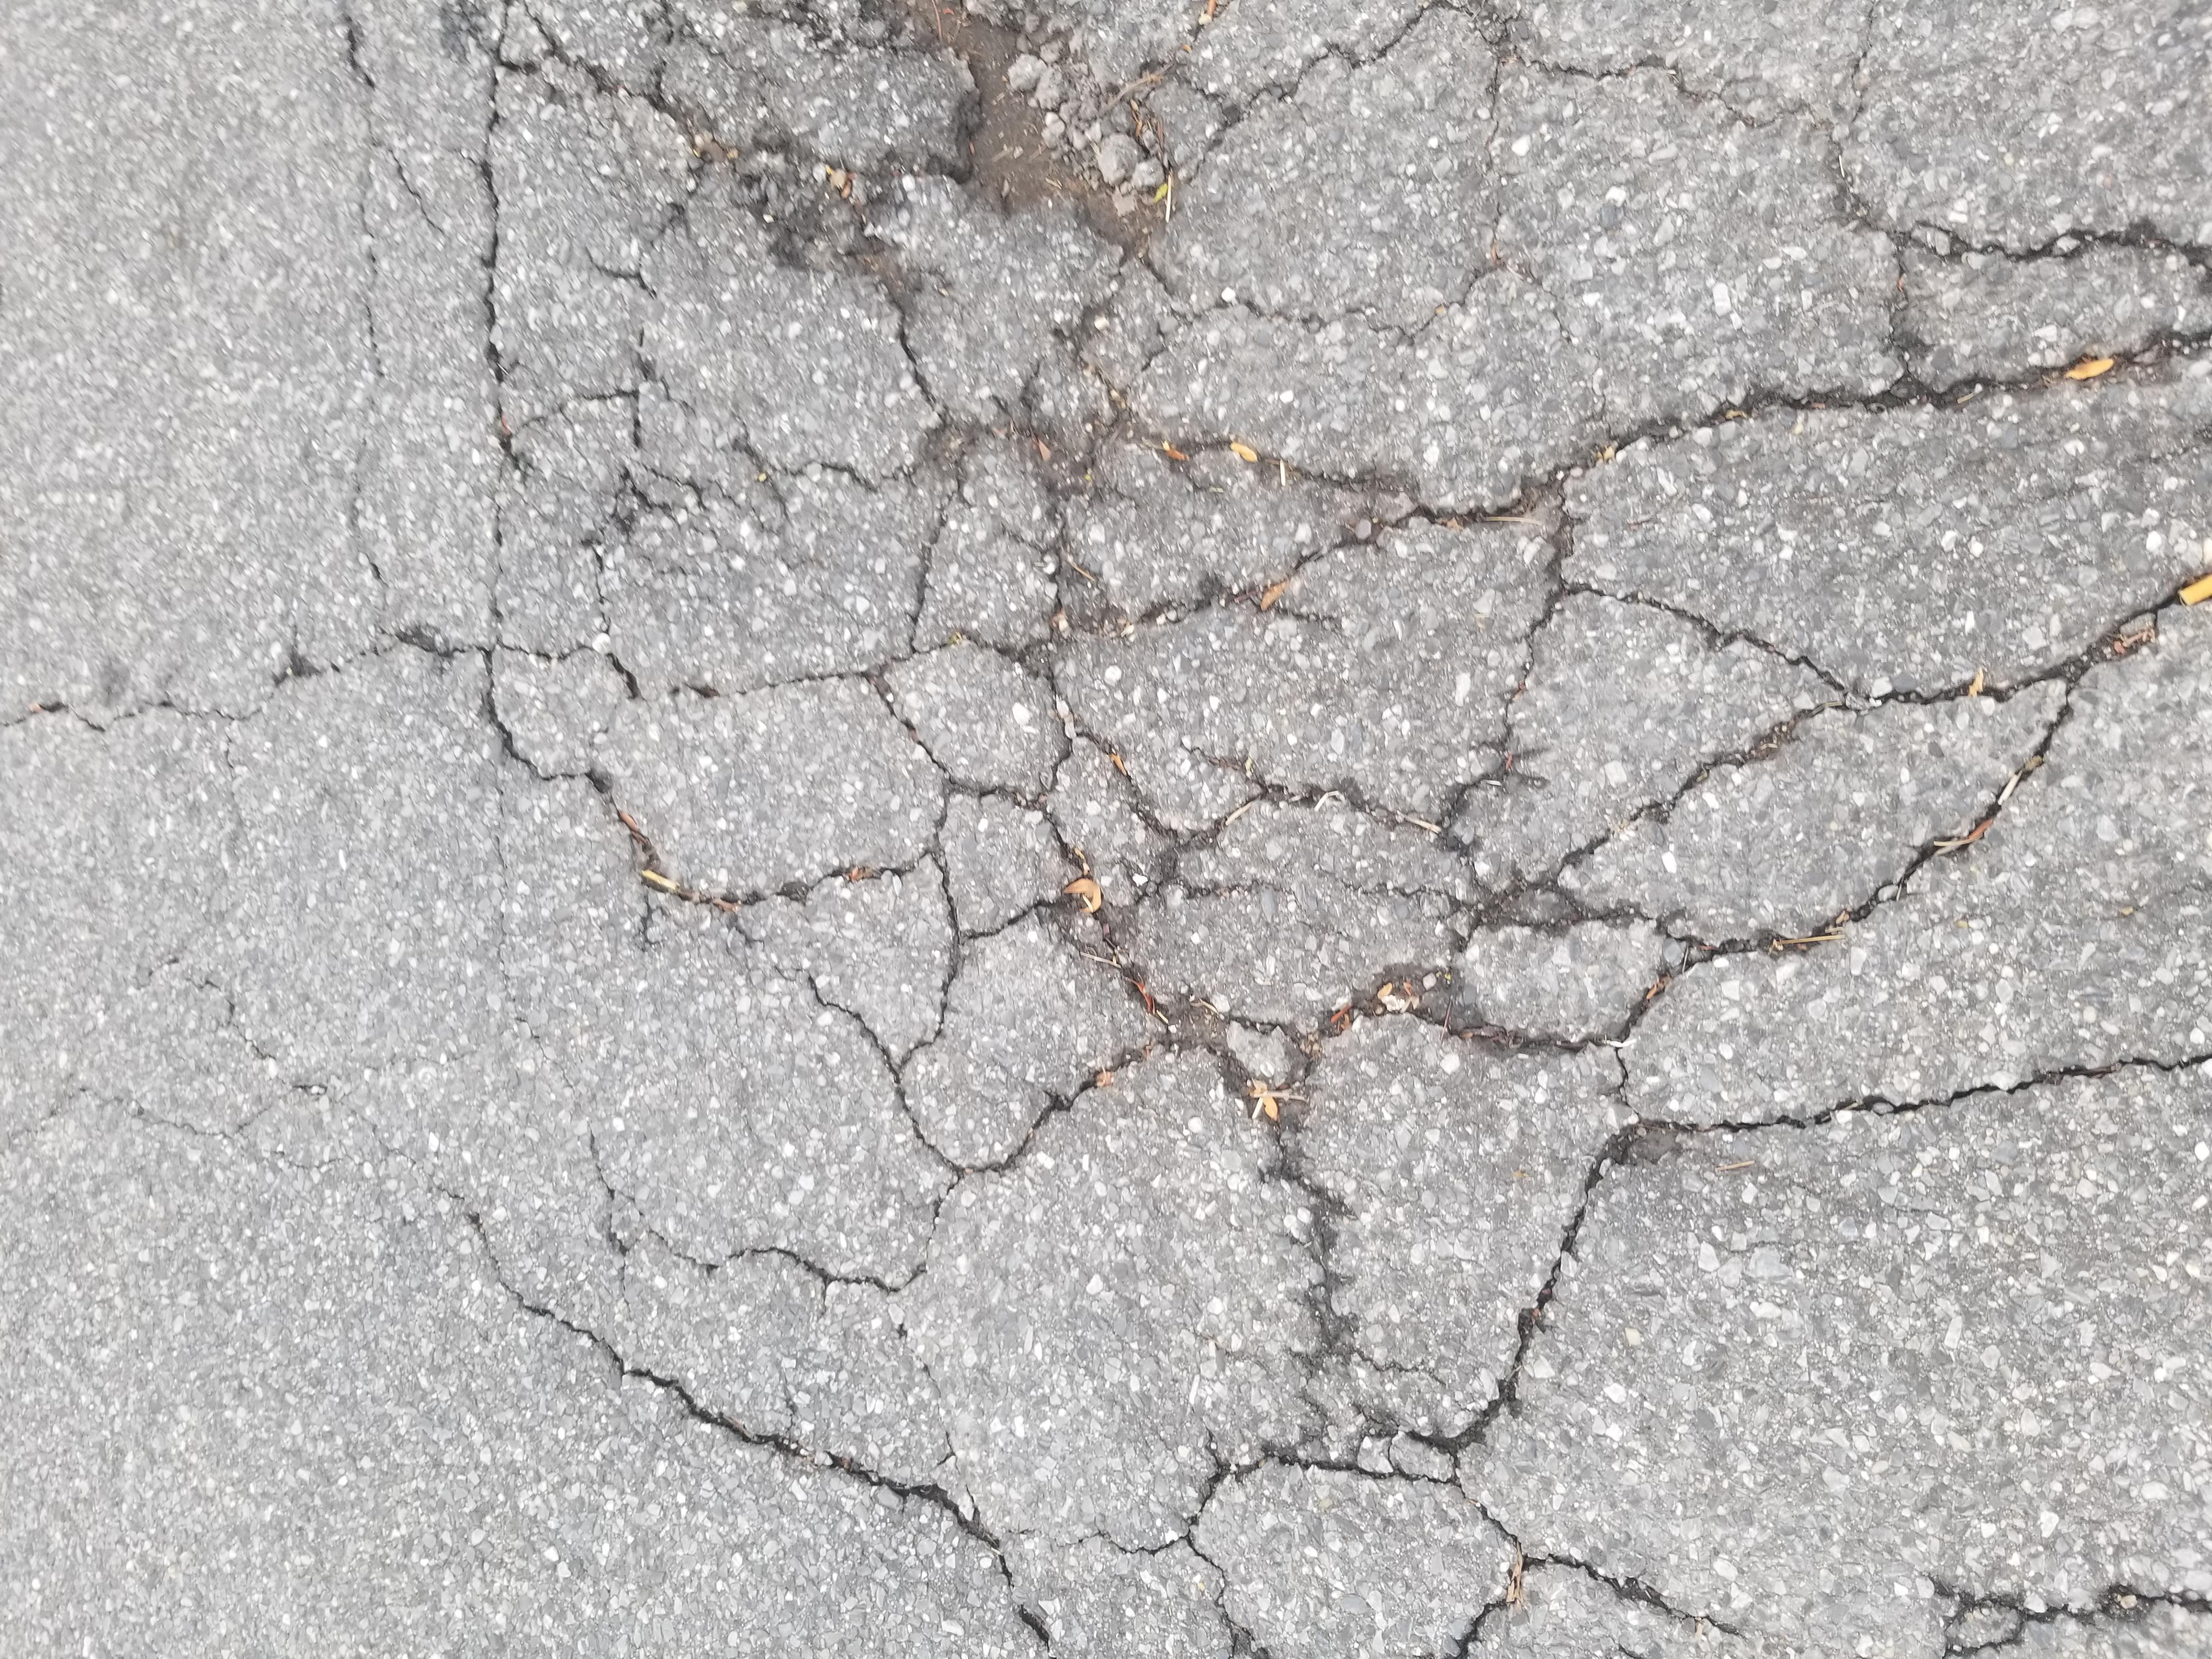alligator-crack: (0, 335, 2212, 1659)
